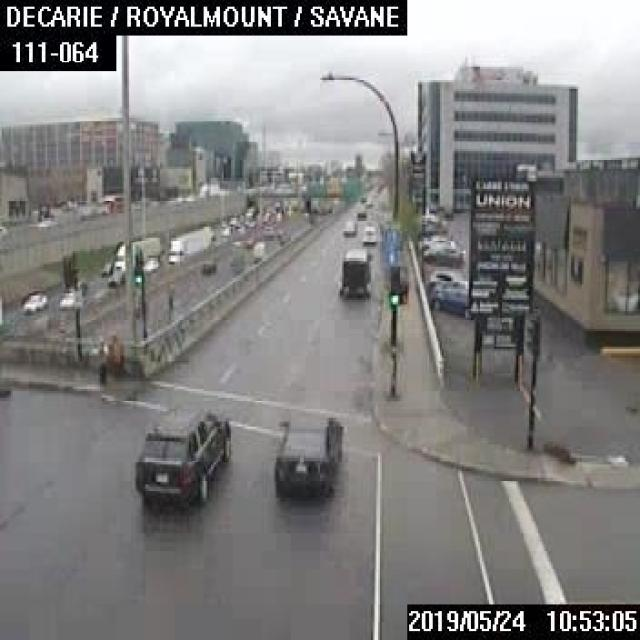vehicle: (131, 400, 231, 504), (269, 409, 342, 495), (424, 286, 476, 319), (113, 234, 158, 271), (166, 225, 209, 262), (336, 250, 369, 296), (420, 247, 462, 266), (20, 289, 45, 311), (429, 269, 463, 282), (100, 193, 122, 213), (420, 235, 454, 247), (56, 292, 72, 309), (198, 258, 215, 273), (362, 225, 376, 242), (107, 270, 125, 283), (341, 222, 356, 236), (252, 240, 263, 259), (99, 262, 110, 274), (355, 208, 365, 217), (363, 200, 371, 207)
